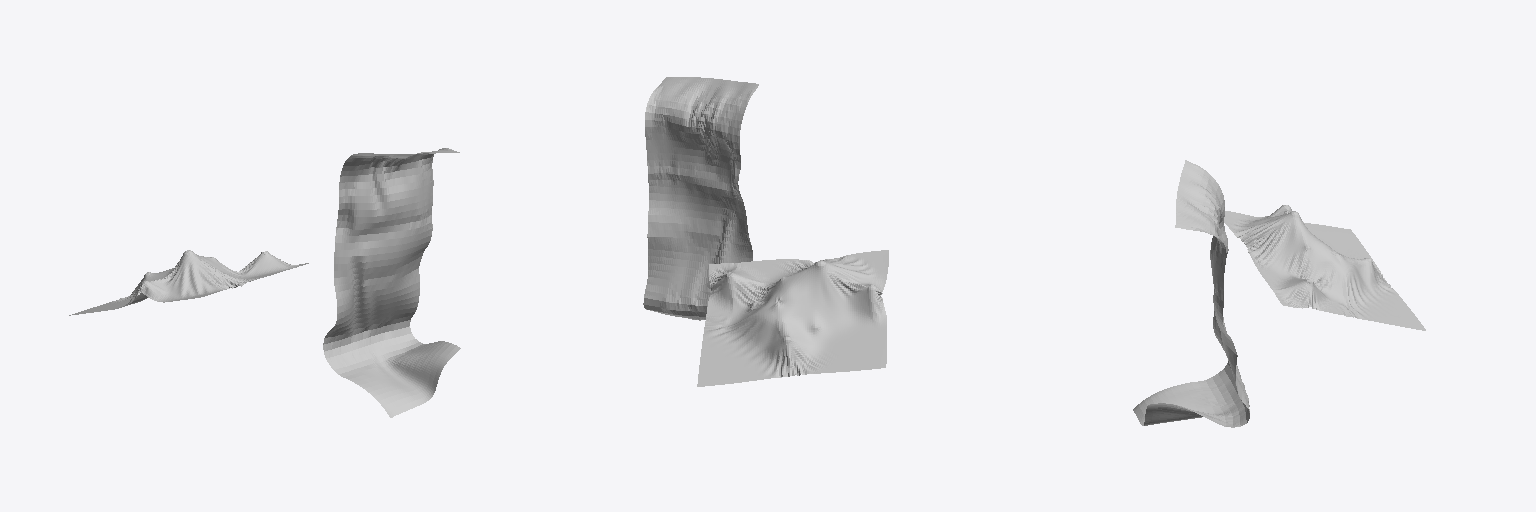
The model's file is drapé2.mtl.obj.
3 renders of one model, left to right at view 1: azimuth 30°, elevation 25°; view 2: azimuth 150°, elevation 25°; view 3: azimuth 270°, elevation 25°, orthographic.
Parts seen in each view (by area): view 1: Plane004, Plane003; view 2: Plane003, Plane004; view 3: Plane003, Plane004.
Part boxes in pixels (bbox=[...]): Plane004: bbox=[323, 148, 460, 417]; Plane003: bbox=[69, 250, 308, 315]; Plane003: bbox=[697, 250, 888, 386]; Plane004: bbox=[643, 77, 758, 320]; Plane003: bbox=[1224, 205, 1425, 330]; Plane004: bbox=[1133, 160, 1249, 427].
Size of the model in its own units: 11.53 by 8.87 by 9.55.